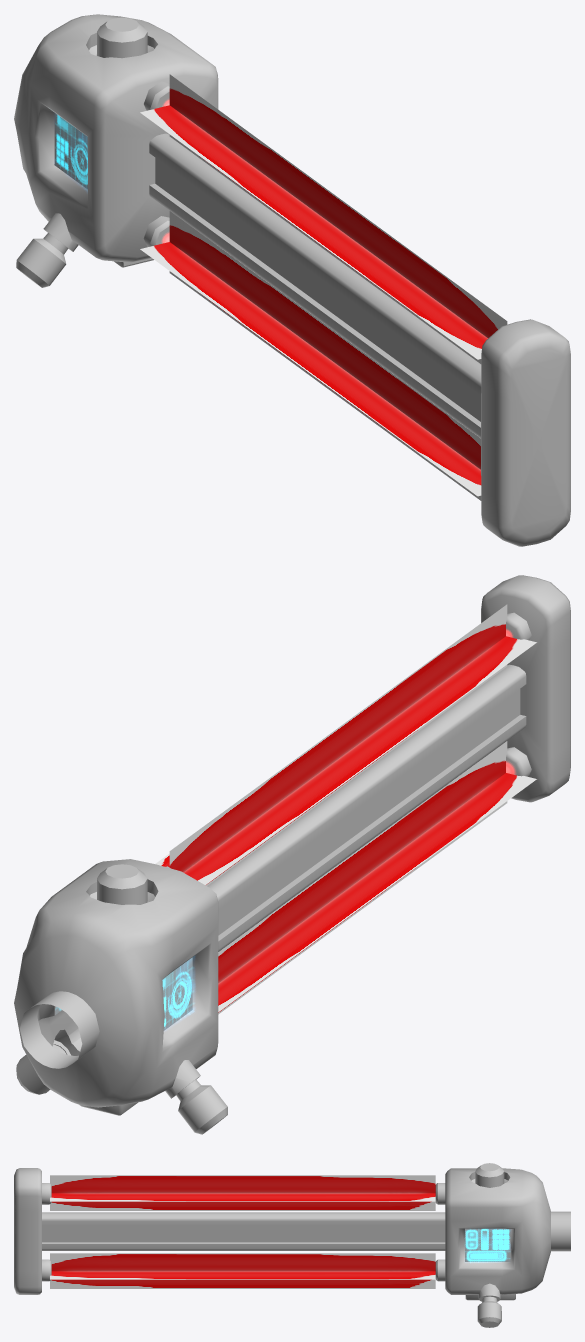
File: SM_MeleeMechLaserSword.fbx
3 renders of one model, top to bottom at view 1: azimuth 30°, elevation 25°; view 2: azimuth 150°, elevation 25°; view 3: azimuth 270°, elevation 25°, orthographic. The views are drawn at different scales.
Visible parts, largest first — view 1: SM_MeleeMechLaserSword, SM_LightMeleeMechLaserSwordBlades; view 2: SM_MeleeMechLaserSword, SM_LightMeleeMechLaserSwordBlades; view 3: SM_MeleeMechLaserSword, SM_LightMeleeMechLaserSwordBlades.
Part boxes in pixels (x1,y1,x2,y2): SM_MeleeMechLaserSword: [14, 14, 570, 546]; SM_LightMeleeMechLaserSwordBlades: [140, 74, 507, 500]; SM_MeleeMechLaserSword: [14, 575, 570, 1134]; SM_LightMeleeMechLaserSwordBlades: [155, 604, 536, 1014]; SM_MeleeMechLaserSword: [14, 1163, 570, 1327]; SM_LightMeleeMechLaserSwordBlades: [50, 1175, 435, 1288].
Size of the model in its own units: 55.84 by 62.44 by 229.
